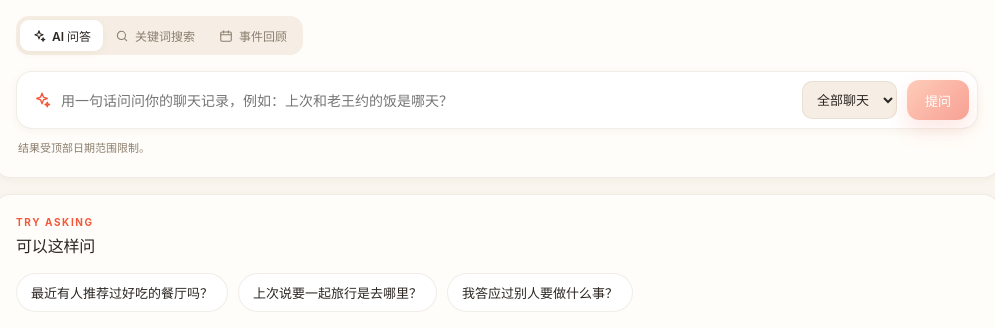
it: event review › keeps a factual dated question in ordinary ask
In the field named "输入问题": (426, 100) [61,84,792,116], type "2026年10月27日谁处理了接口问题"
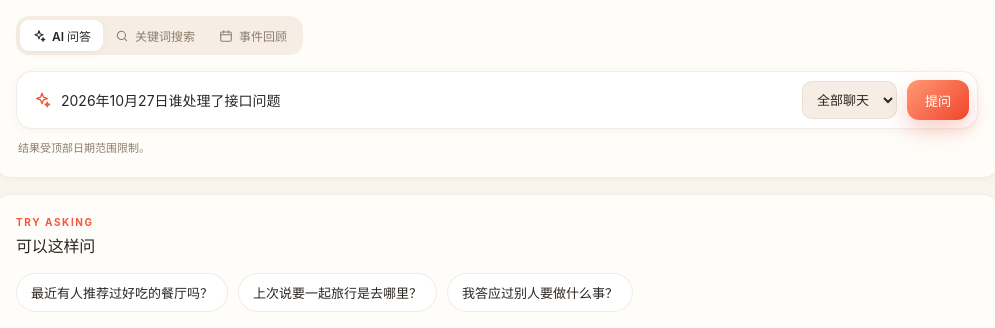
Click the button "提问": (938, 100) [907,80,969,120]
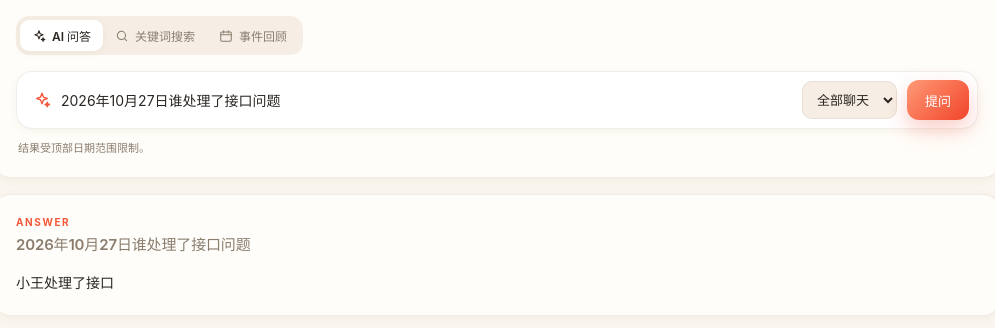
Result: the text "小王处理了接口" is shown at [16,274,114,291]
